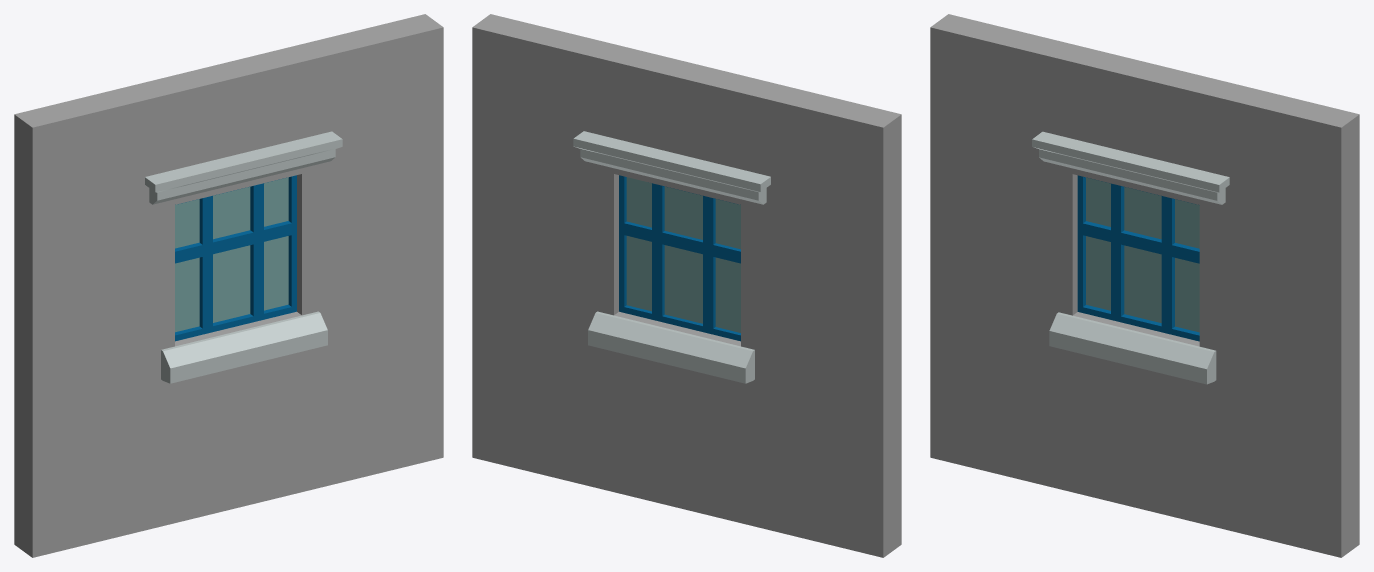
File: NY_Street_Window_06.fbx
3 views of the same model, side by side, from view 1: azimuth 30°, elevation 25°; view 2: azimuth 150°, elevation 25°; view 3: azimuth 330°, elevation 25° (orthographic).
Parts seen in each view (by area): view 1: NY_Street_Window_06; view 2: NY_Street_Window_06; view 3: NY_Street_Window_06.
Part boxes in pixels (box(x1,y1,x2,y2)): NY_Street_Window_06: box(14, 14, 443, 557); NY_Street_Window_06: box(472, 14, 901, 557); NY_Street_Window_06: box(930, 14, 1359, 557).
Bounding box in the file's own units: 400 × 400 × 66.17.
